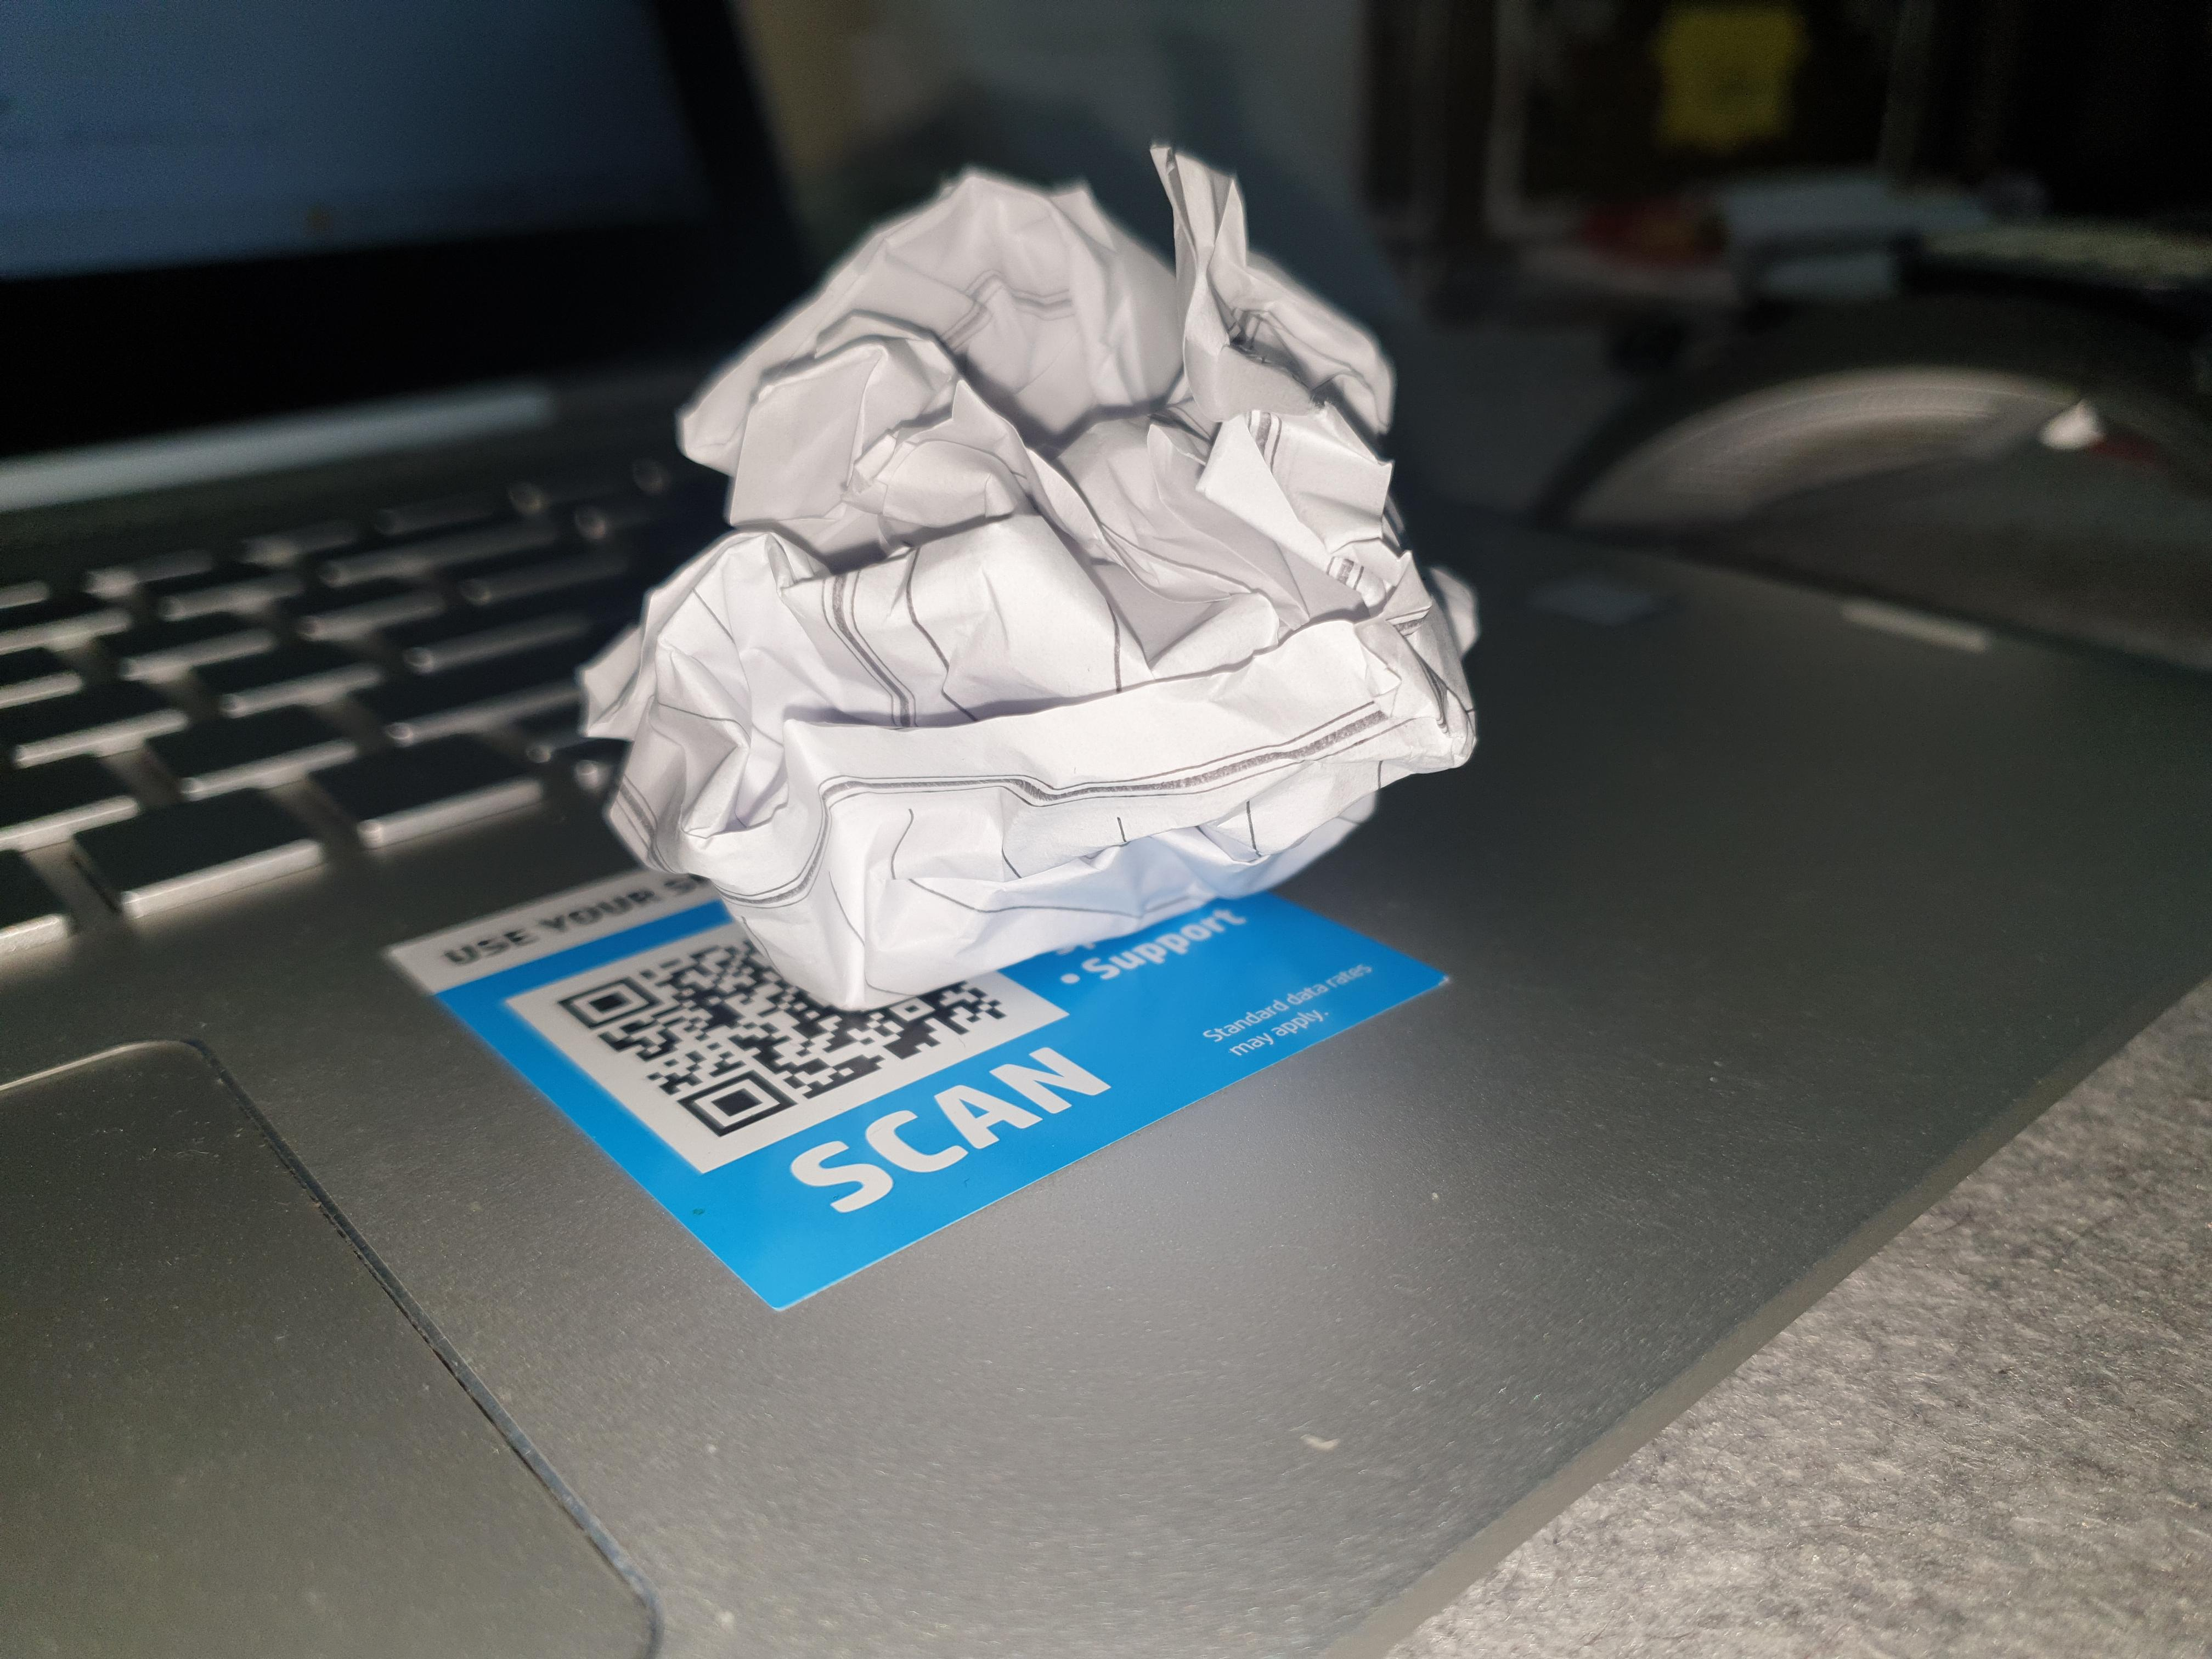Paper: (591, 88, 1529, 1033)
